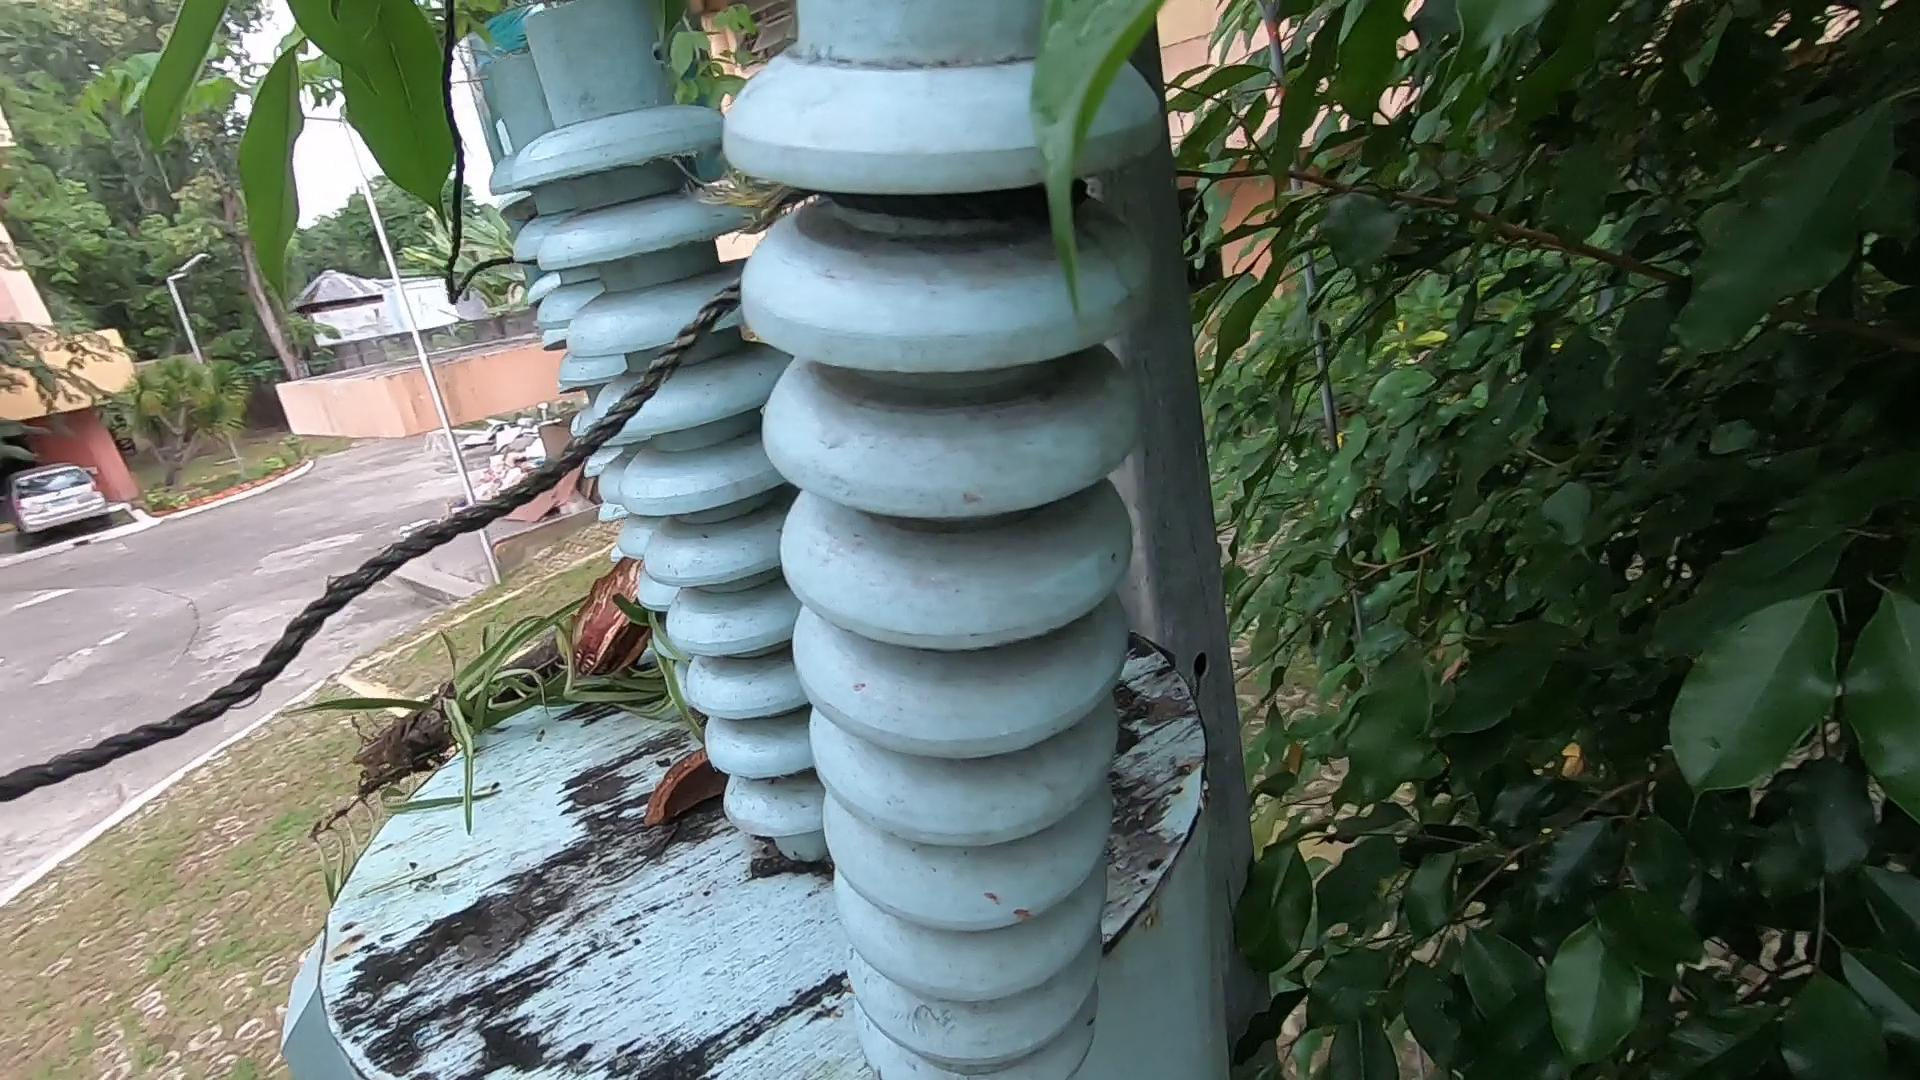branch with leaves: (356, 502, 735, 862)
mahogany fruit: (576, 559, 674, 663), (669, 731, 735, 807)
